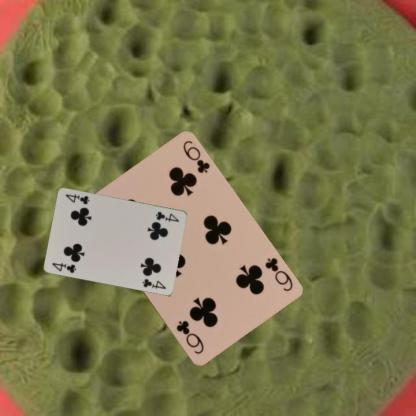4c: (153, 209, 180, 223), (50, 260, 77, 274)
6c: (262, 255, 294, 293)
